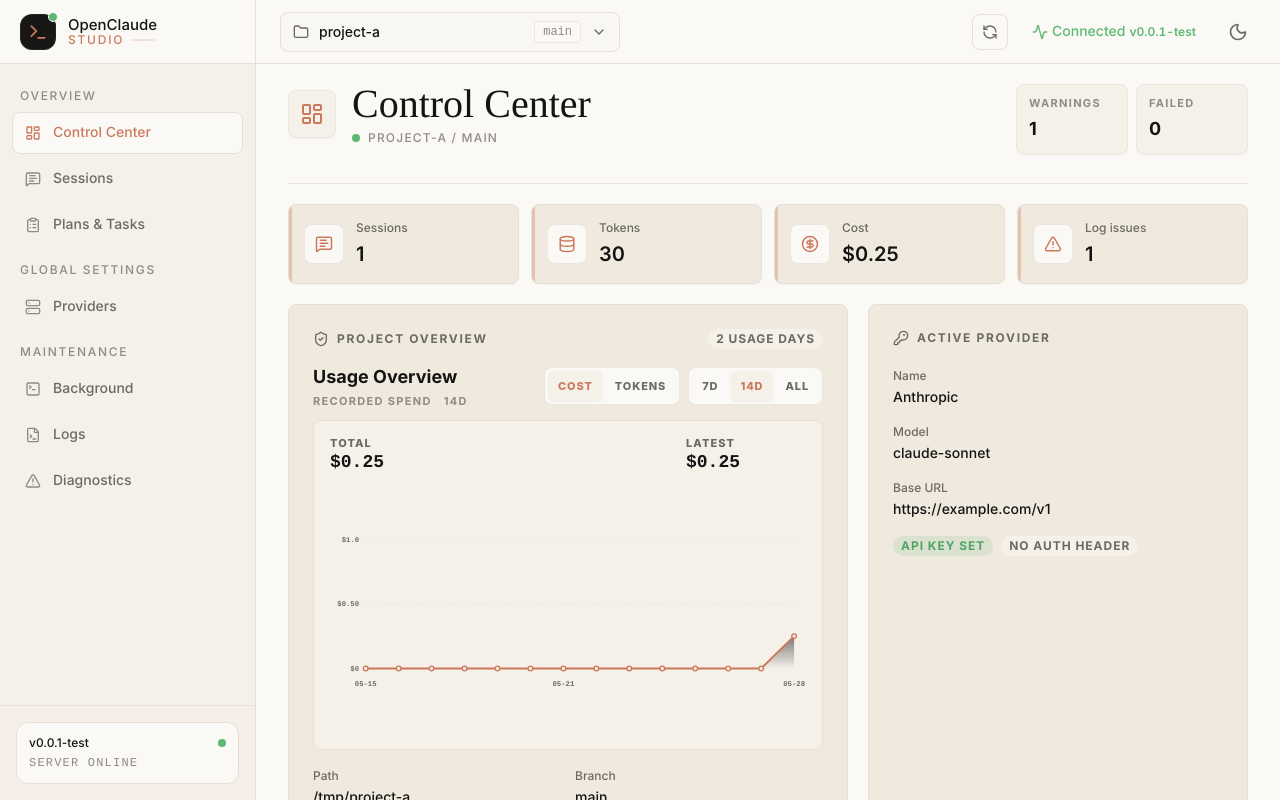
App › shows a route-level error when plans and tasks list loading fails
Expected: the button "project-a main" is shown, [280,12,620,52]
Click the link "Plans & Tasks" at (85, 224), box [25,216,145,233]
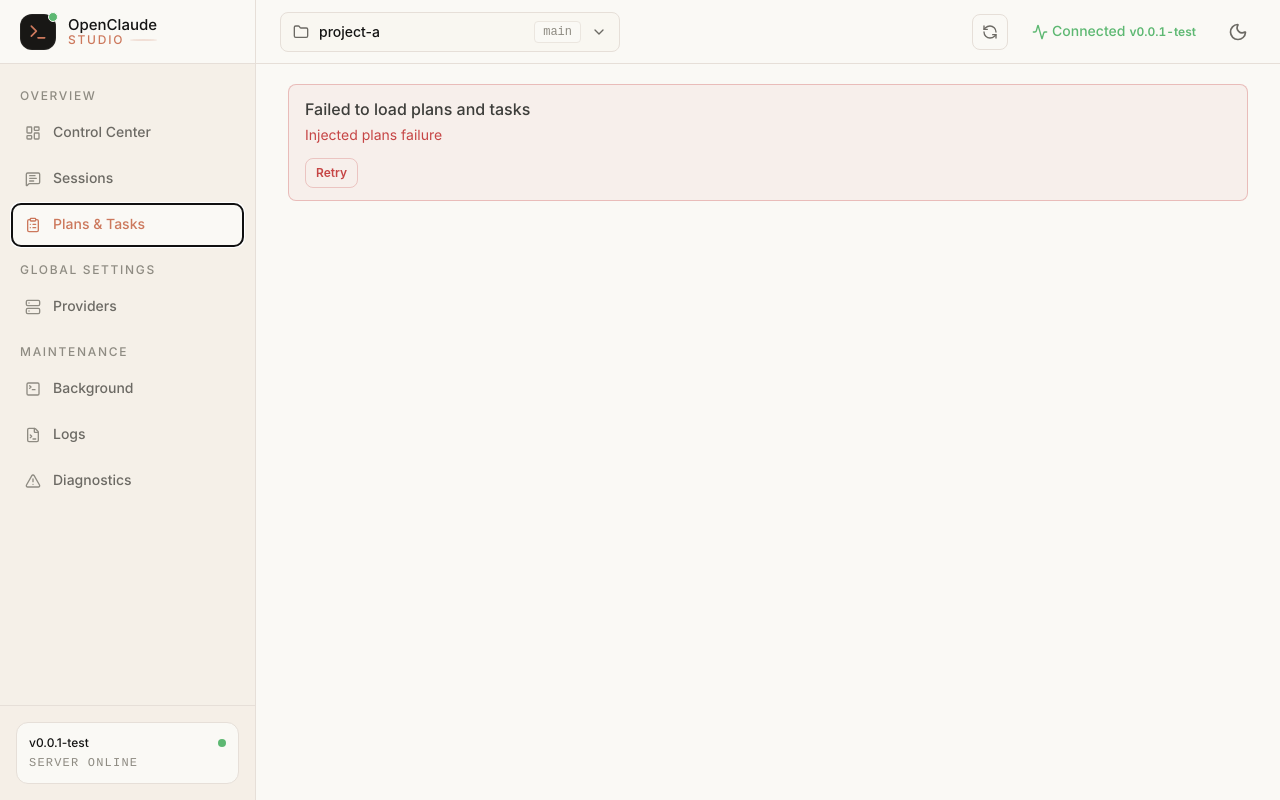
Now the text "Failed to load plans and tasks" is shown, box [305,99,530,119]
Now the text "Injected plans failure" is shown, box [305,127,442,144]
Click the button "Retry" at (332, 173), box [305,158,358,188]
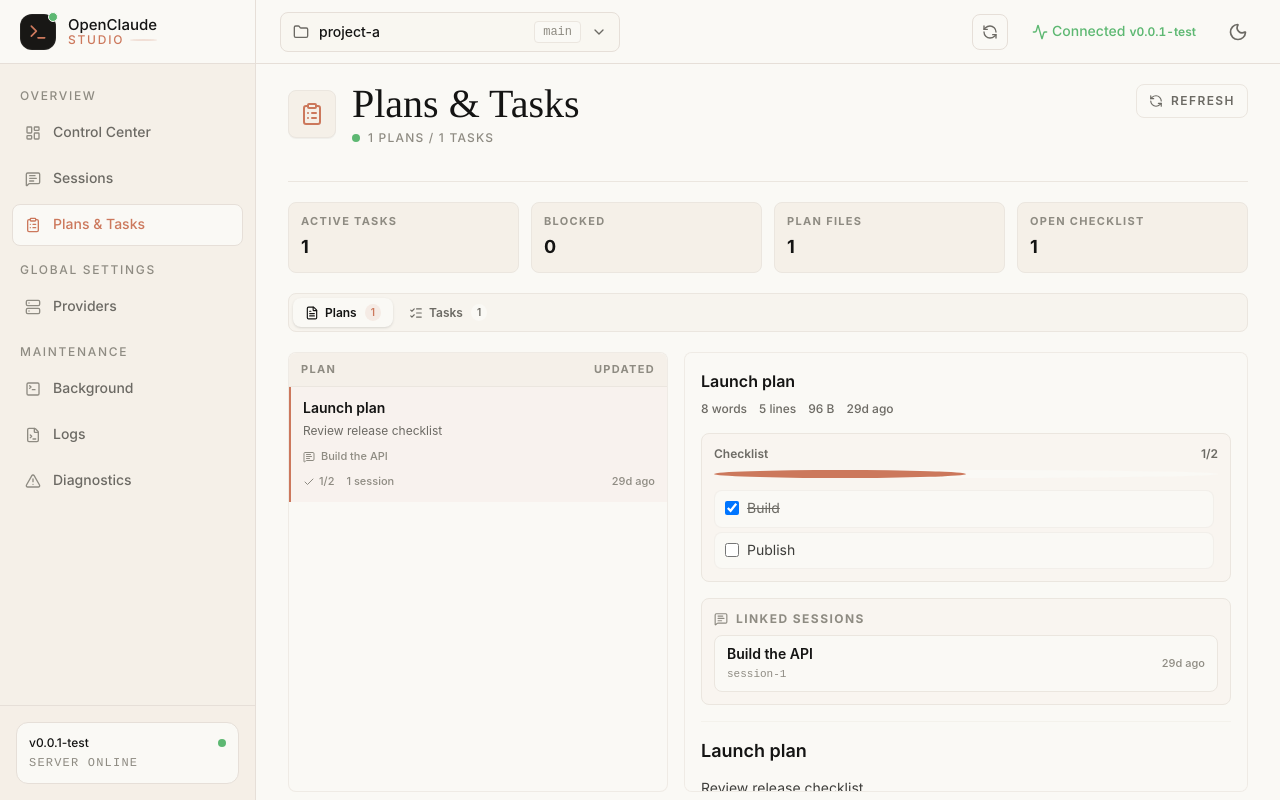
Now the heading "Plans & Tasks" is shown, box [352,84,580,124]
Now the text "Launch plan" is shown, box [303,399,385,417]
